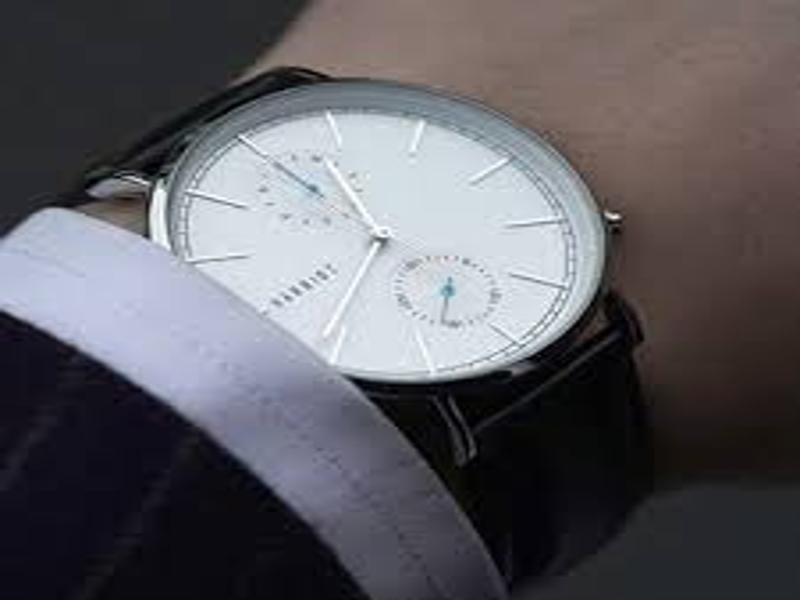watch: (73, 64, 659, 574)
